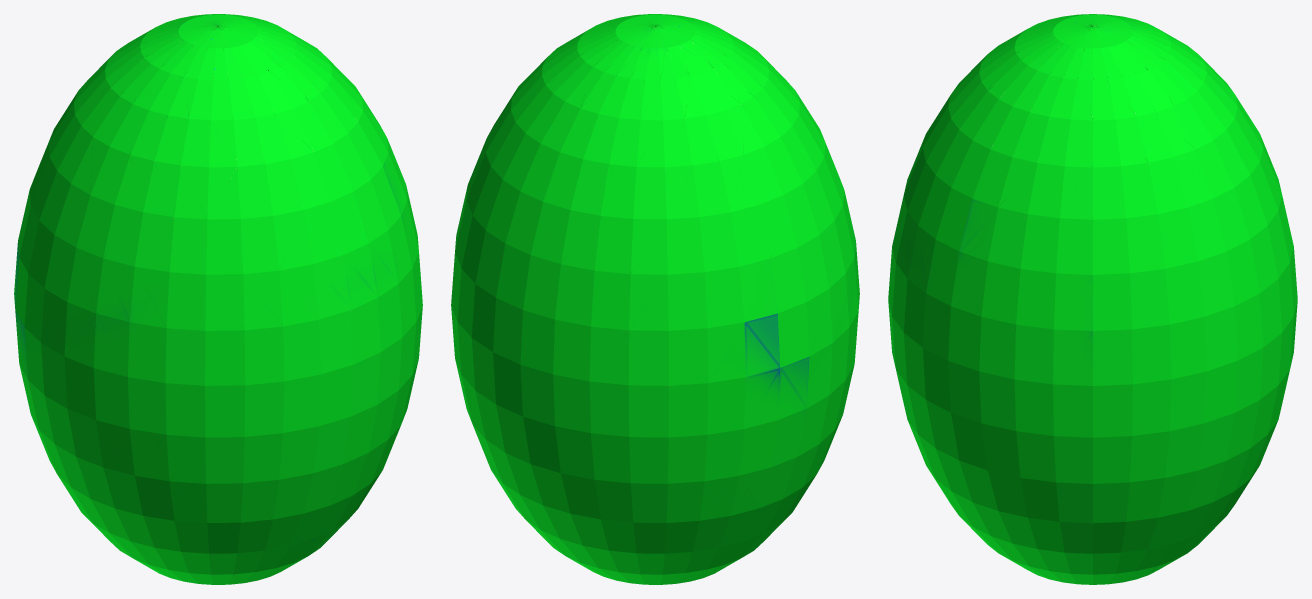
The model's file is keystone_green.obj.
The picture shows the model from 3 angles, left to right: view 1: azimuth 30°, elevation 25°; view 2: azimuth 150°, elevation 25°; view 3: azimuth 270°, elevation 25°; orthographic projection.
Size of the model in its own units: 1 by 1.47 by 1.
